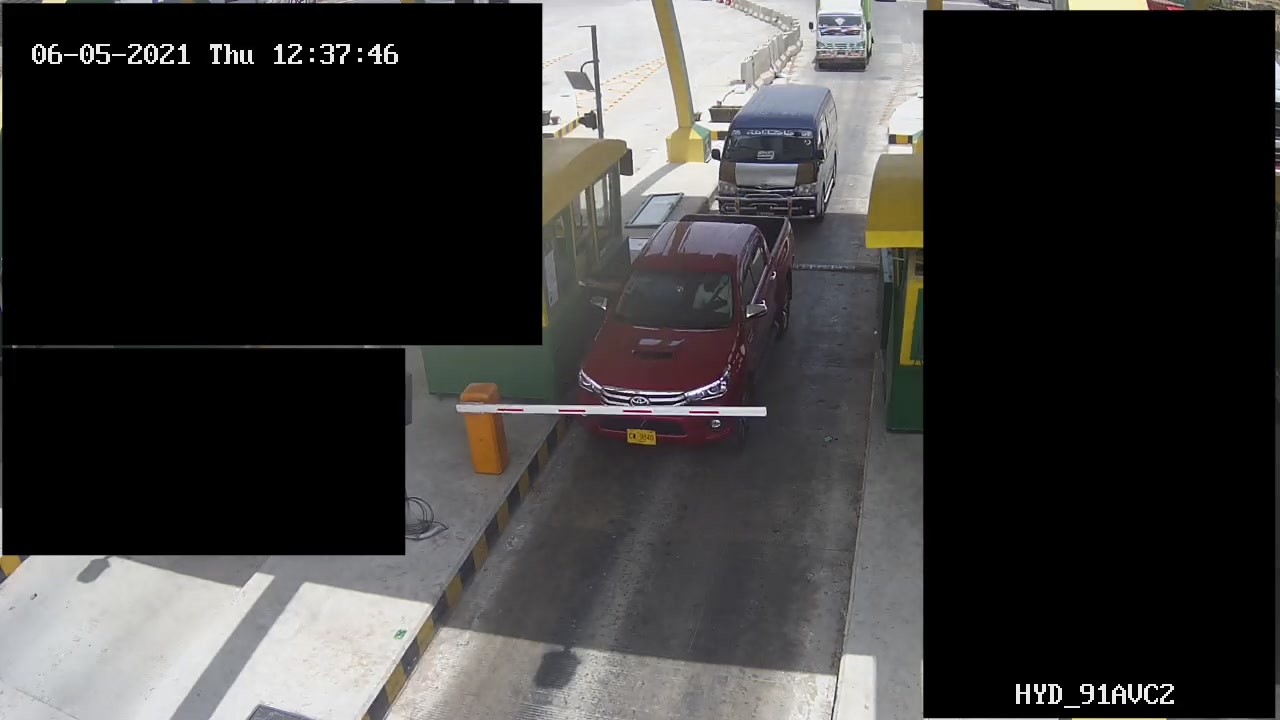F1: (584, 202, 799, 452)
F2: (714, 72, 845, 222)
